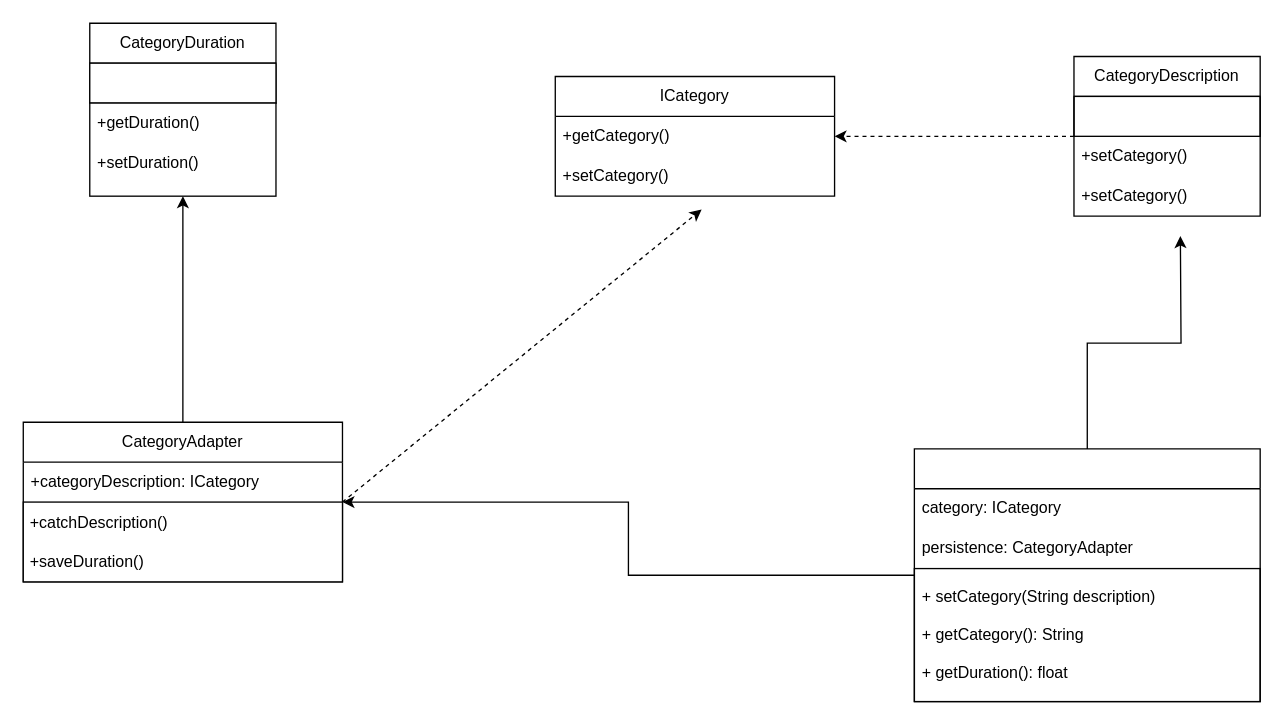
Some shapes in this 1283 by 725 pixel diagram are drawn without their labels. The box of each missing label's shape, as (x1, y1, x2, y2) in pixels:
- description: (1073, 95, 1260, 136)
- duration: (88, 62, 276, 103)
Movie: (913, 448, 1260, 702)
